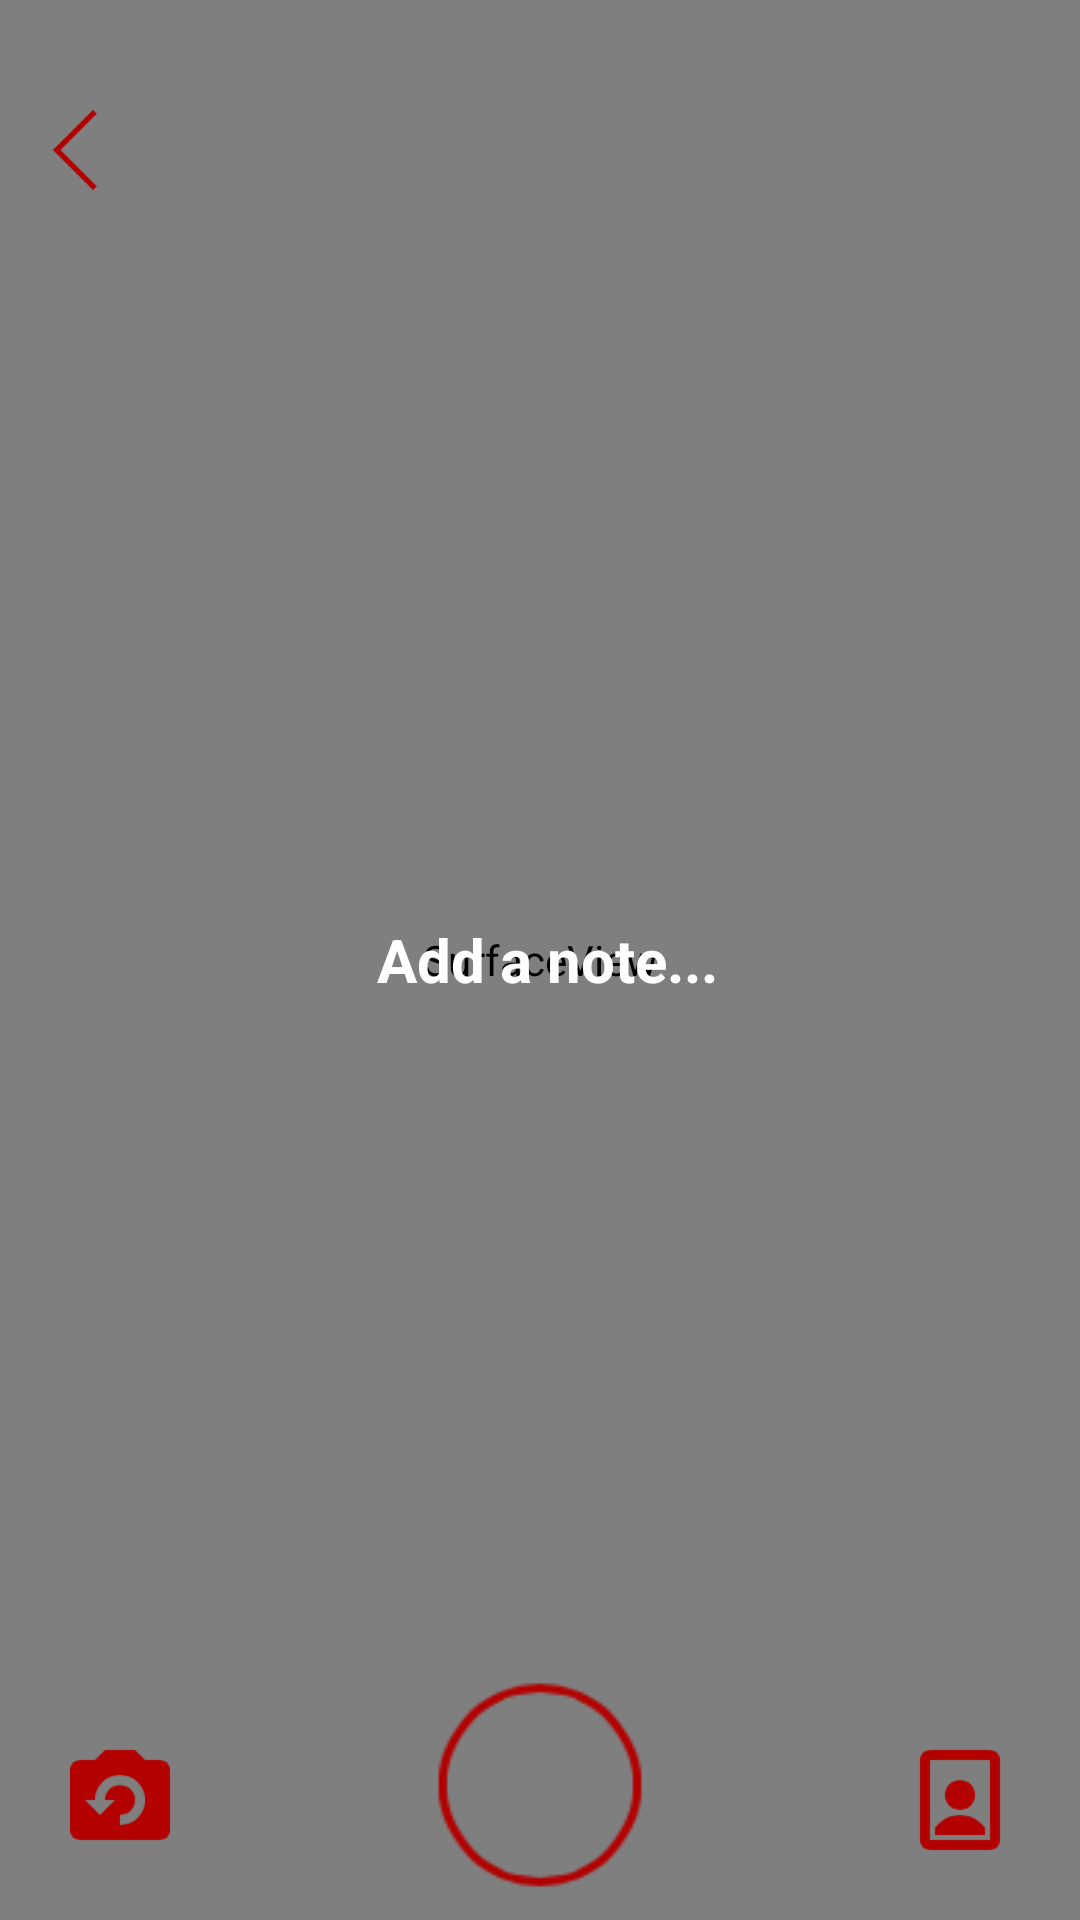

Where icons sit on this 1080w x 1920h app screen, as (x1, y1, x2, y2):
camerared: (70, 1750, 170, 1840)
circlethinred: (438, 1683, 642, 1887)
leftred: (53, 110, 97, 190)
portraitred: (920, 1750, 1000, 1850)
